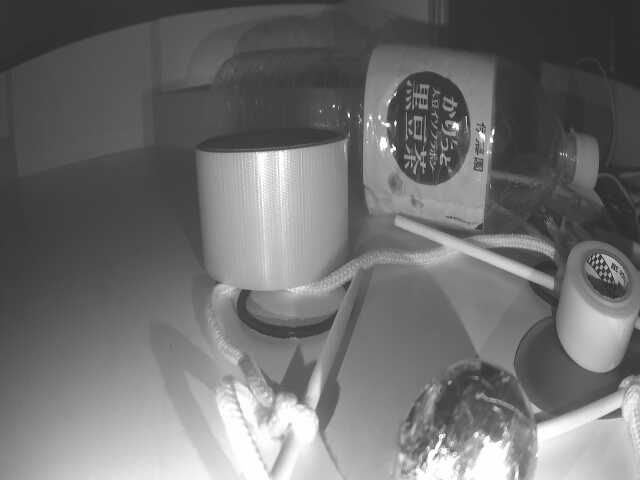Live: (392, 353, 540, 480)
Point: (153, 90, 237, 159)
